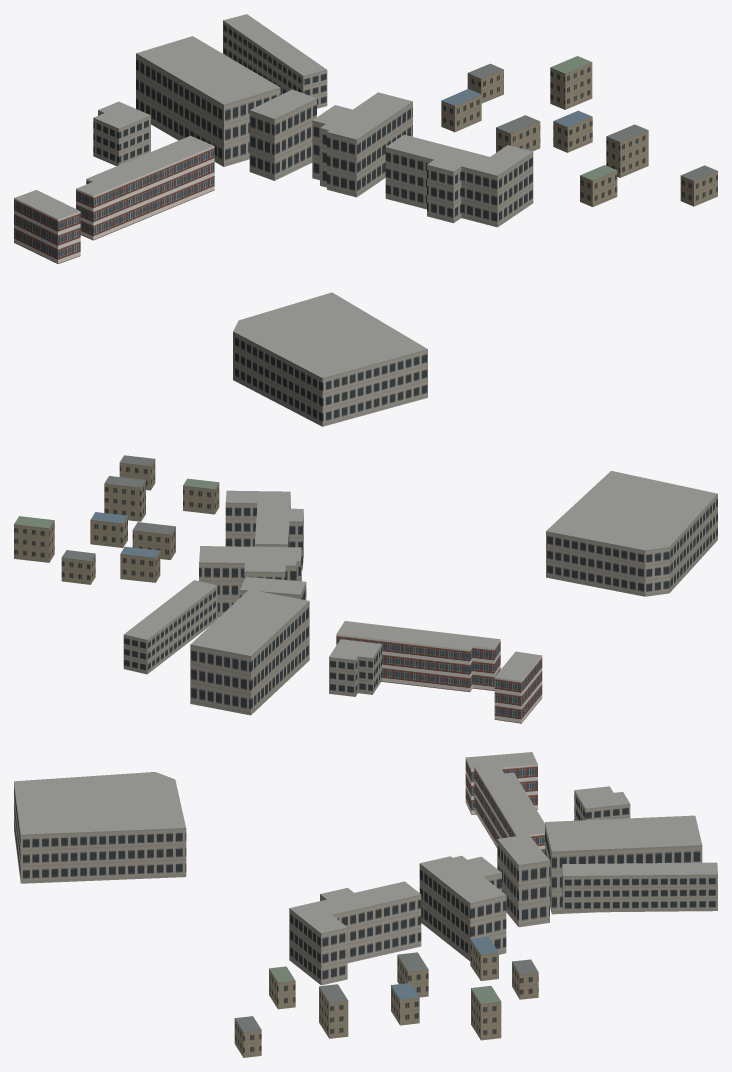
3 views of the same model, one above another, from view 1: azimuth 30°, elevation 25°; view 2: azimuth 150°, elevation 25°; view 3: azimuth 270°, elevation 25° (orthographic). The views are drawn at different scales.
Parts seen in each view (by area): view 1: ctx-other, ctx-roof, ctx-adjacent-school, ctx-house, ctx-roof-grey, ctx-roof-blue, ctx-roof-green; view 2: ctx-other, ctx-roof, ctx-house, ctx-adjacent-school, ctx-roof-grey, ctx-roof-blue, ctx-roof-green; view 3: ctx-other, ctx-roof, ctx-house, ctx-adjacent-school, ctx-roof-grey, ctx-roof-blue, ctx-roof-green.
Part boxes in pixels (x1,y1,x2,y2): ctx-other: (93, 20, 533, 426); ctx-roof: (14, 14, 532, 377); ctx-adjacent-school: (14, 146, 214, 263); ctx-house: (441, 62, 717, 206); ctx-roof-grey: (468, 63, 717, 180); ctx-roof-blue: (441, 89, 592, 126); ctx-roof-green: (551, 56, 616, 180); ctx-other: (123, 494, 717, 715); ctx-roof: (124, 471, 717, 680); ctx-house: (14, 459, 219, 584); ctx-adjacent-school: (336, 634, 542, 723); ctx-roof-grey: (61, 455, 175, 560); ctx-roof-blue: (90, 512, 159, 557); ctx-roof-green: (14, 478, 218, 528); ctx-other: (14, 783, 717, 985); ctx-roof: (14, 752, 717, 933); ctx-house: (234, 939, 538, 1057); ctx-adjacent-school: (465, 758, 544, 853); ctx-roof-grey: (235, 952, 538, 1031); ctx-roof-blue: (391, 936, 498, 999); ctx-roof-green: (269, 966, 500, 1003).
Bounding box in the file's own units: 204 × 31.21 × 220.
7 materials, 3 textured.
